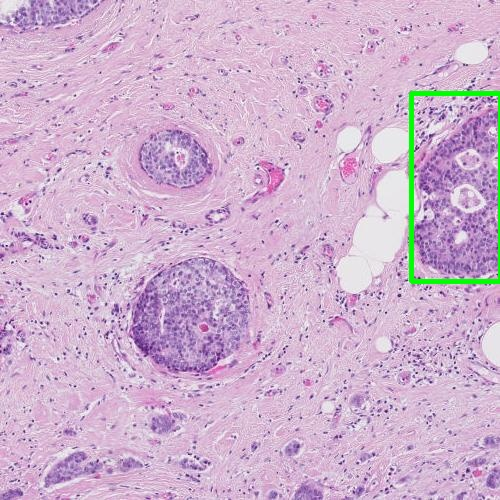DCIS: (411, 93, 500, 281)
